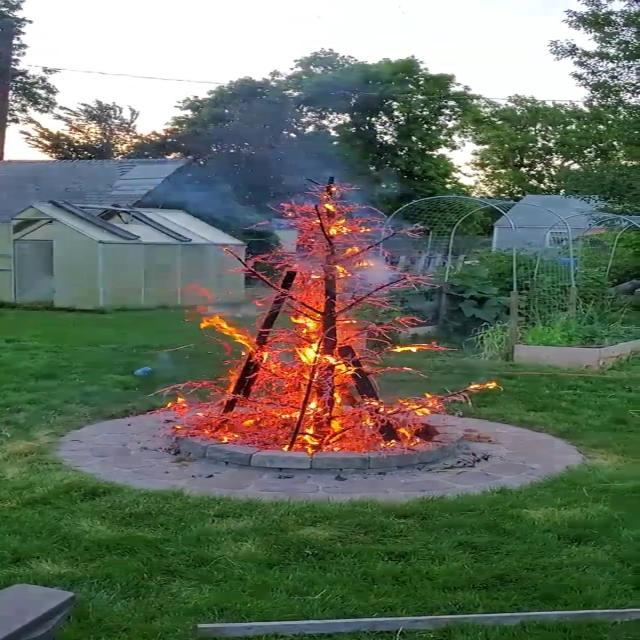Fire: (178, 184, 440, 454)
